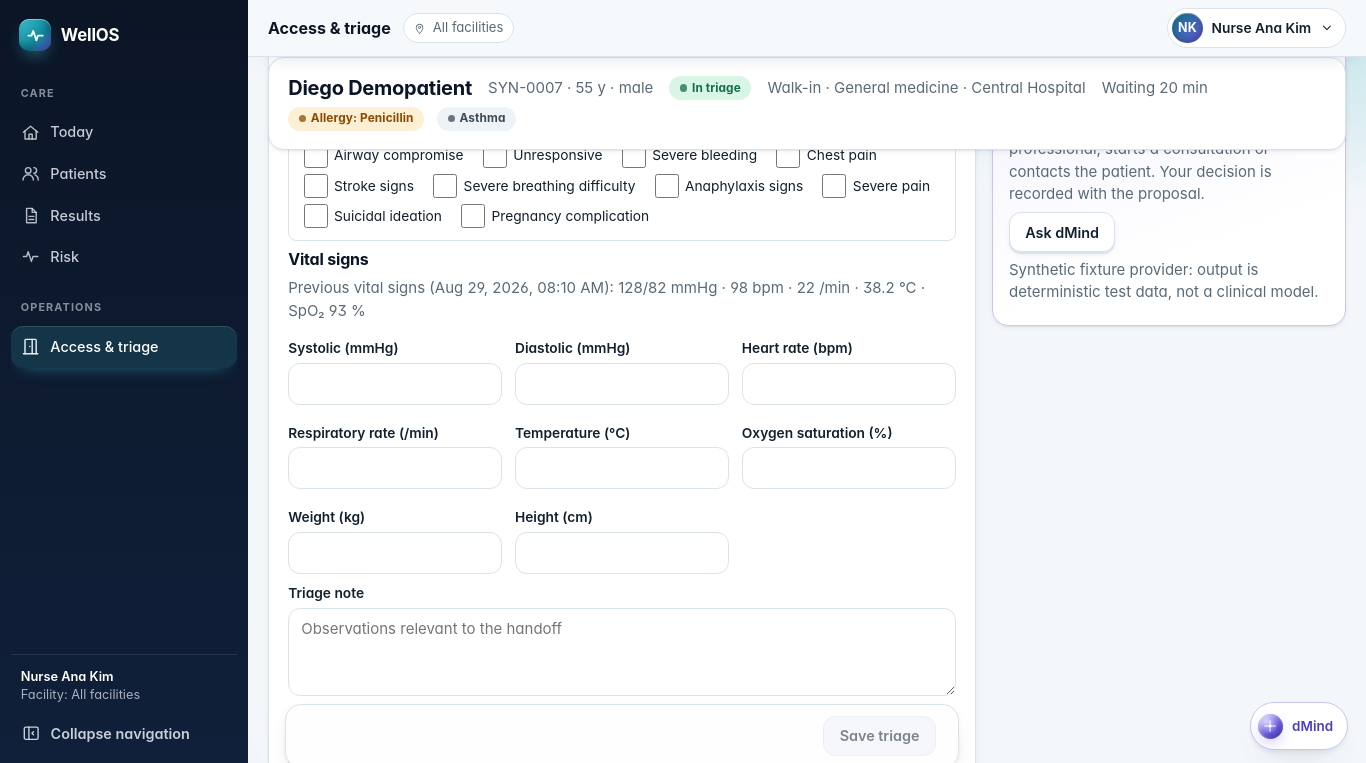
Test: triage workspace › asks to confirm unusual values before saving them
(page scrolled)
Step 1. Type "190" into the field labelled "Heart rate (bpm)" → point(849, 384), box [742, 363, 956, 405]
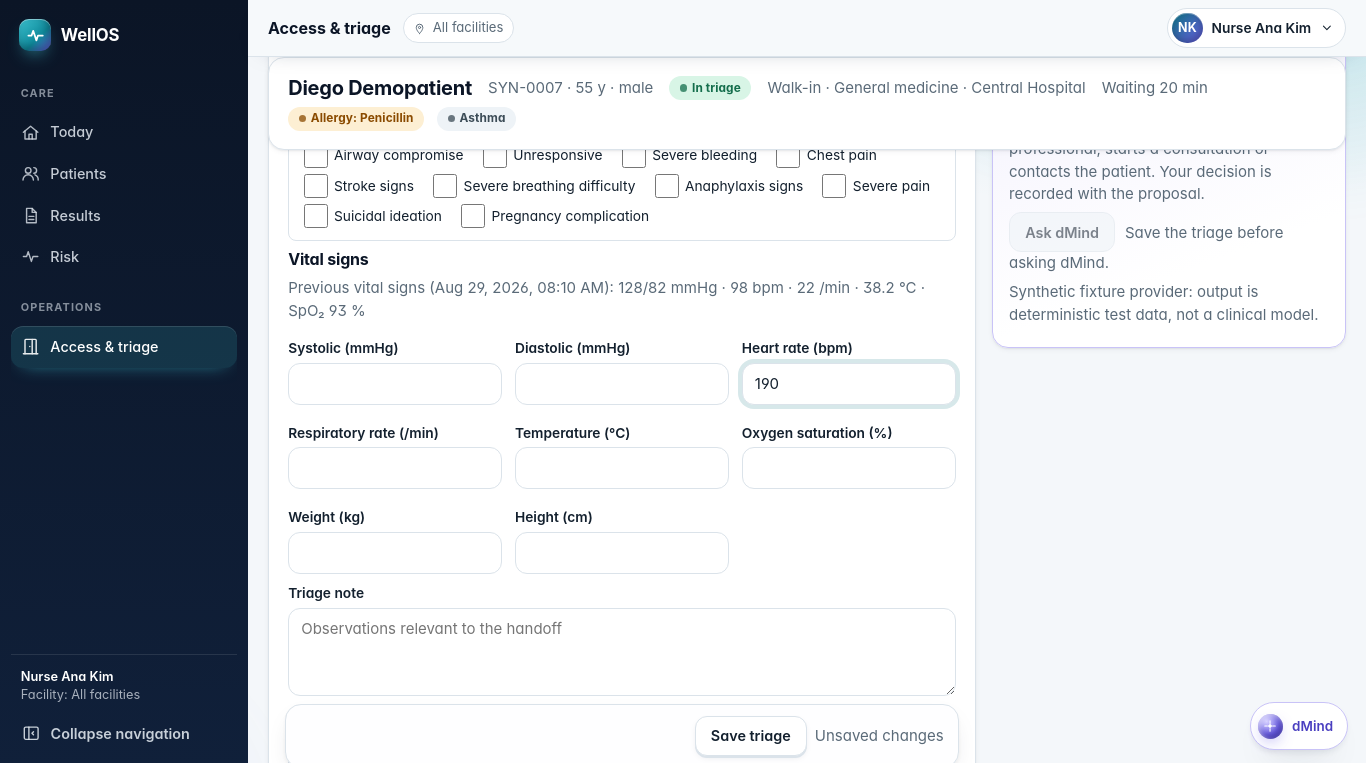
Step 2. Click the button "Save triage" → point(751, 736), box [695, 716, 807, 756]
(page scrolled)
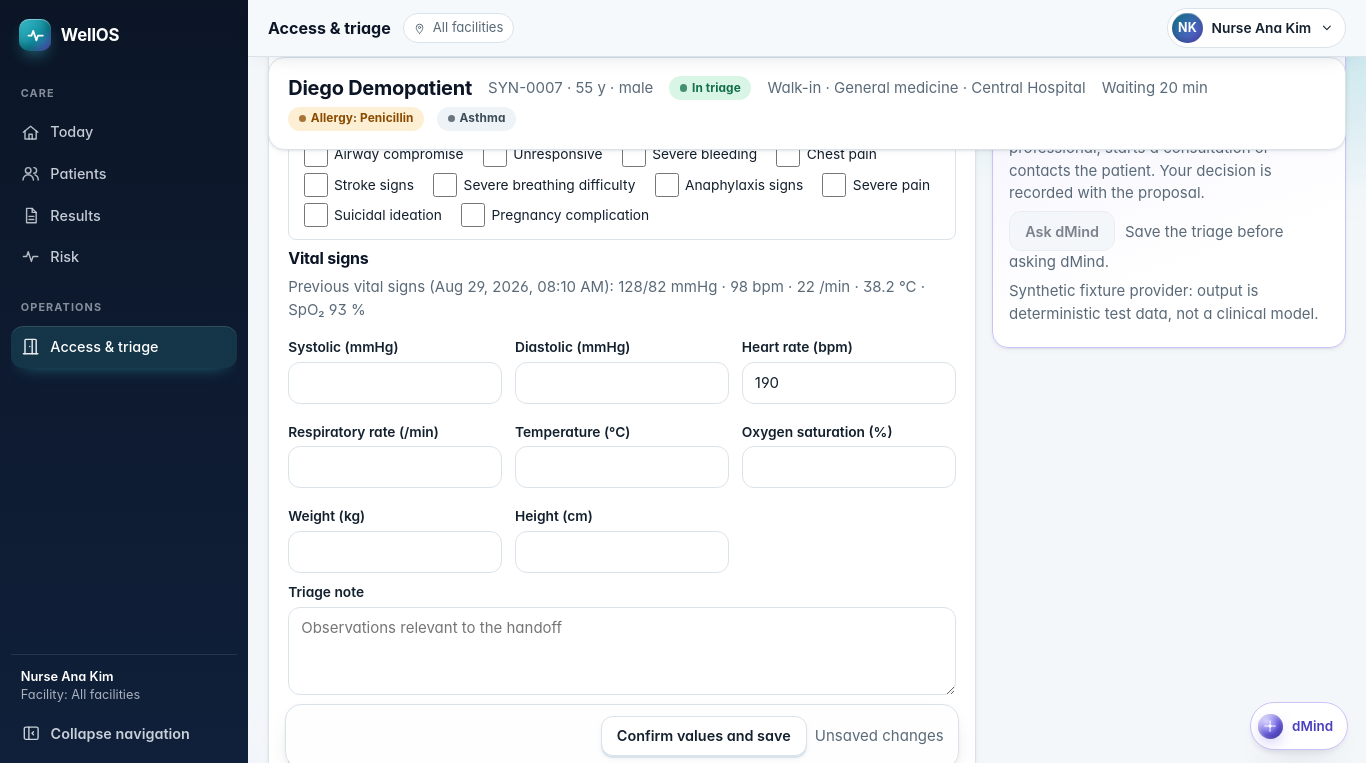
Step 3. Click the button "Confirm values and save" → point(704, 736), box [601, 716, 807, 756]
(page scrolled)
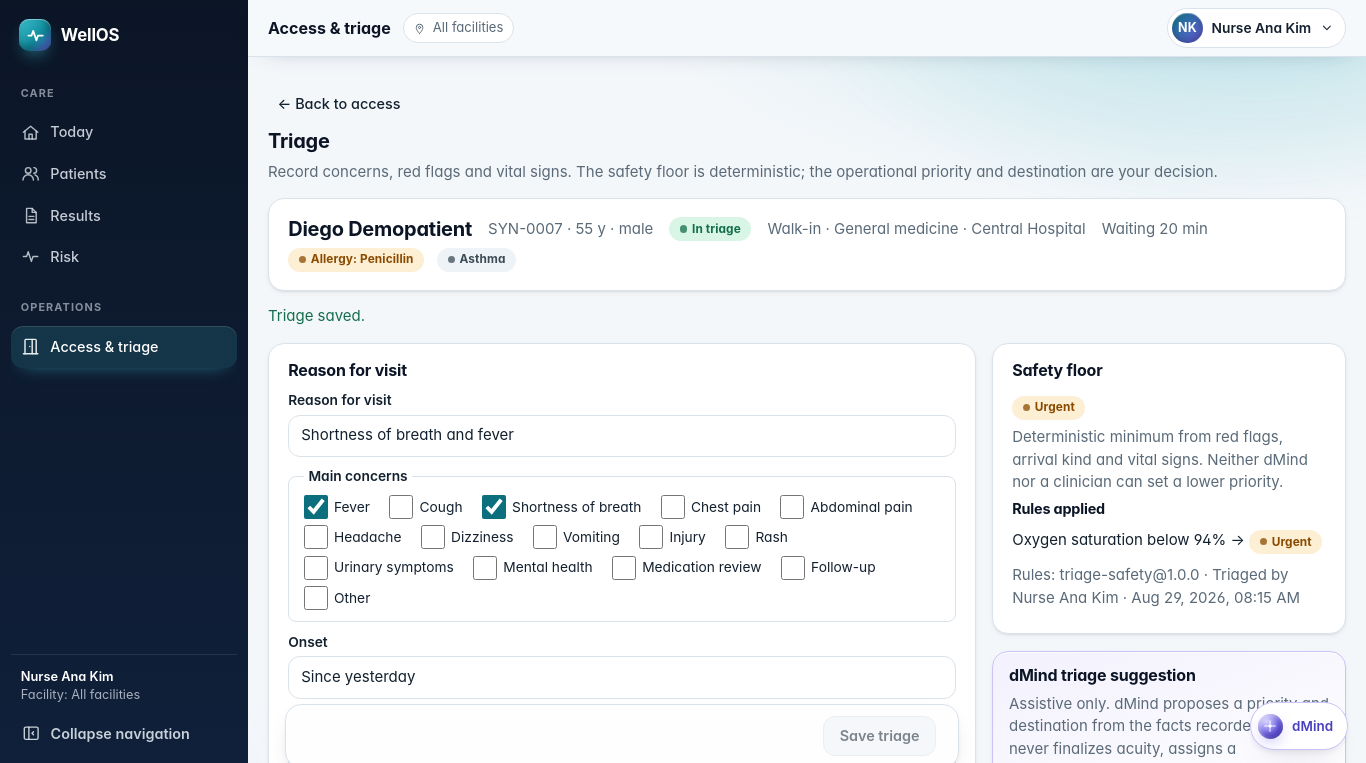
Check: the text "Triage saved." is shown, box [268, 306, 365, 325]
